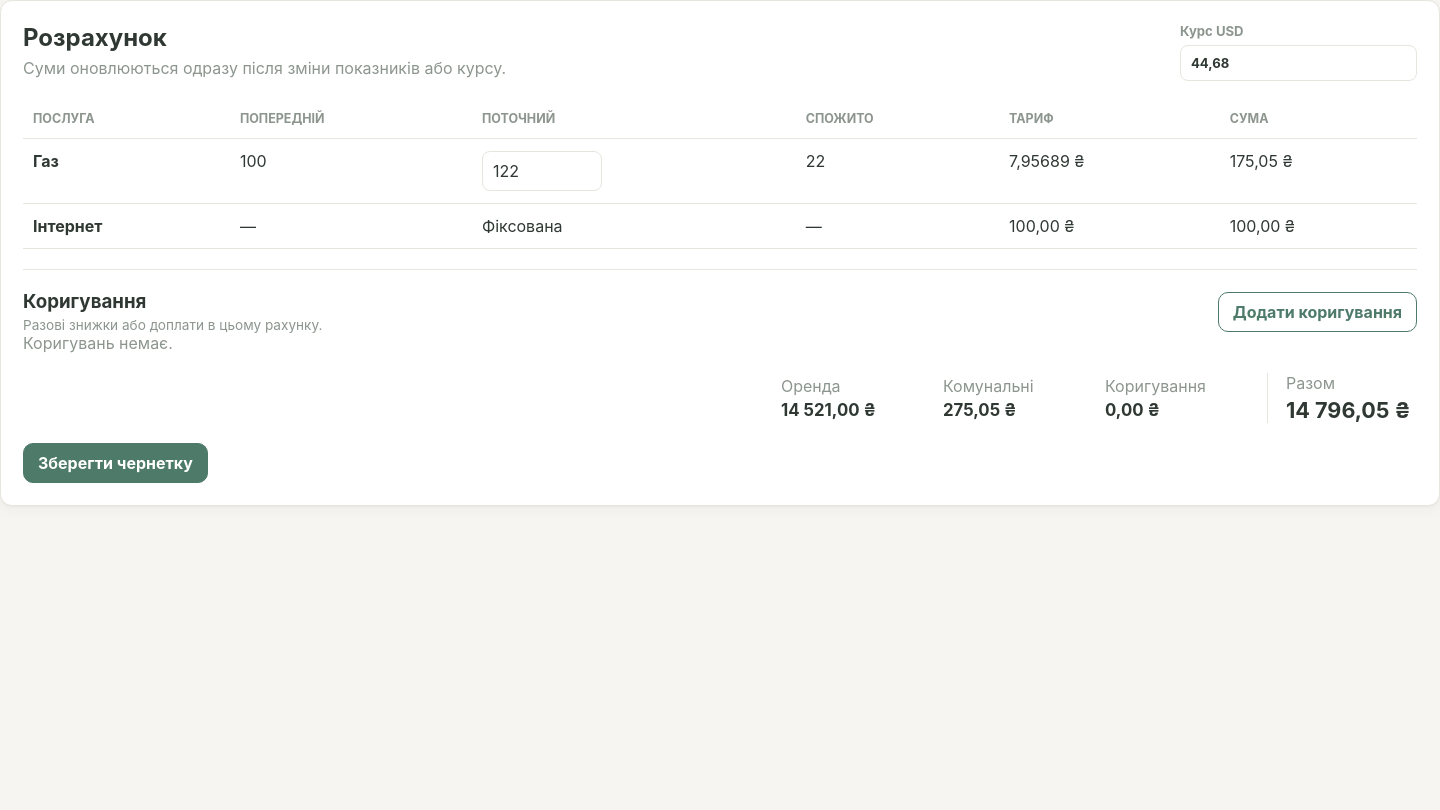
it: InvoiceCalculator › disables and clears expense recording for a positive adjustment
Step 1. Click the button "Додати коригування" → (1317, 312), box top-left (1218, 292), bottom-right (1417, 332)
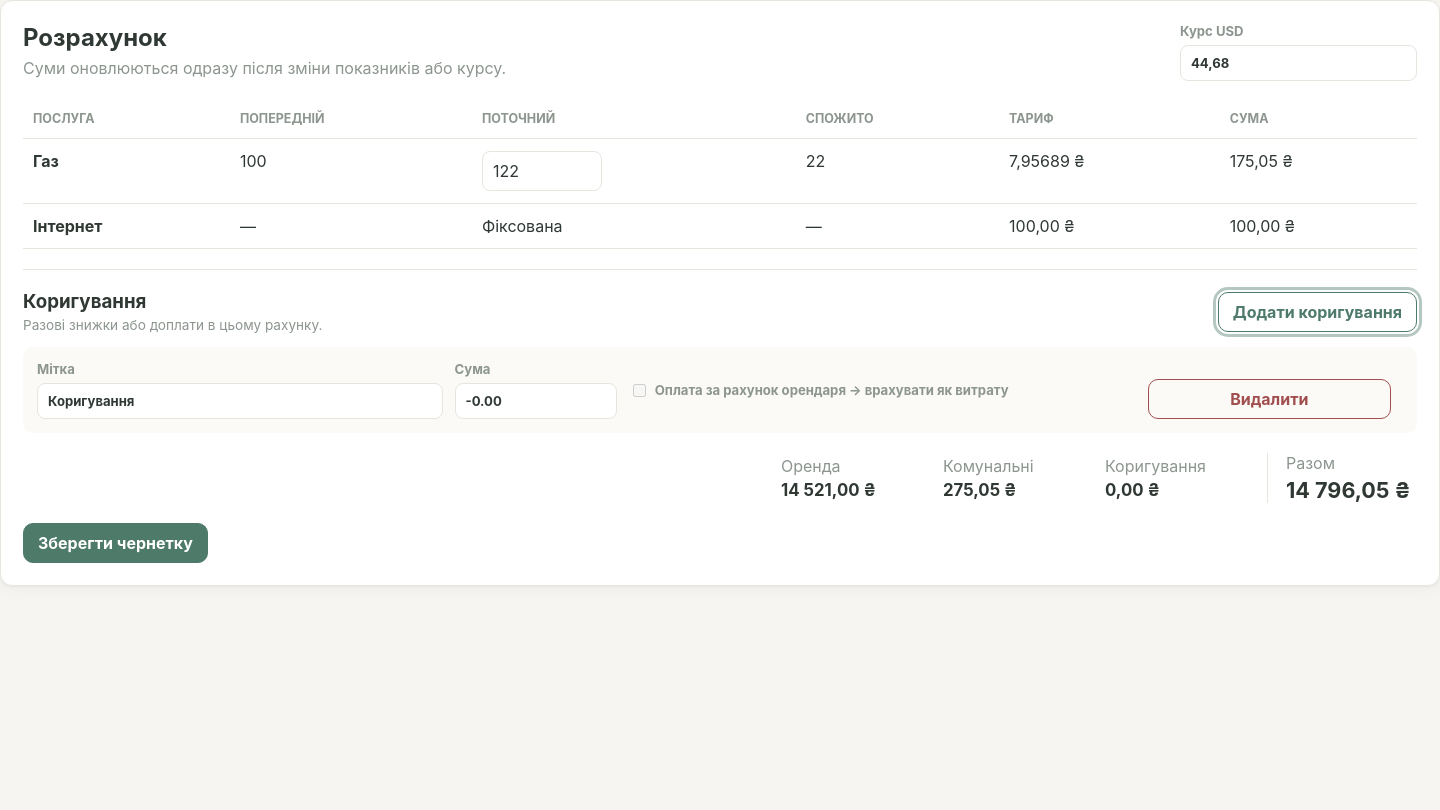
Step 2. Replace the text in the field named "Сума коригування 1" with "-100" → (536, 401), box top-left (454, 383), bottom-right (617, 419)
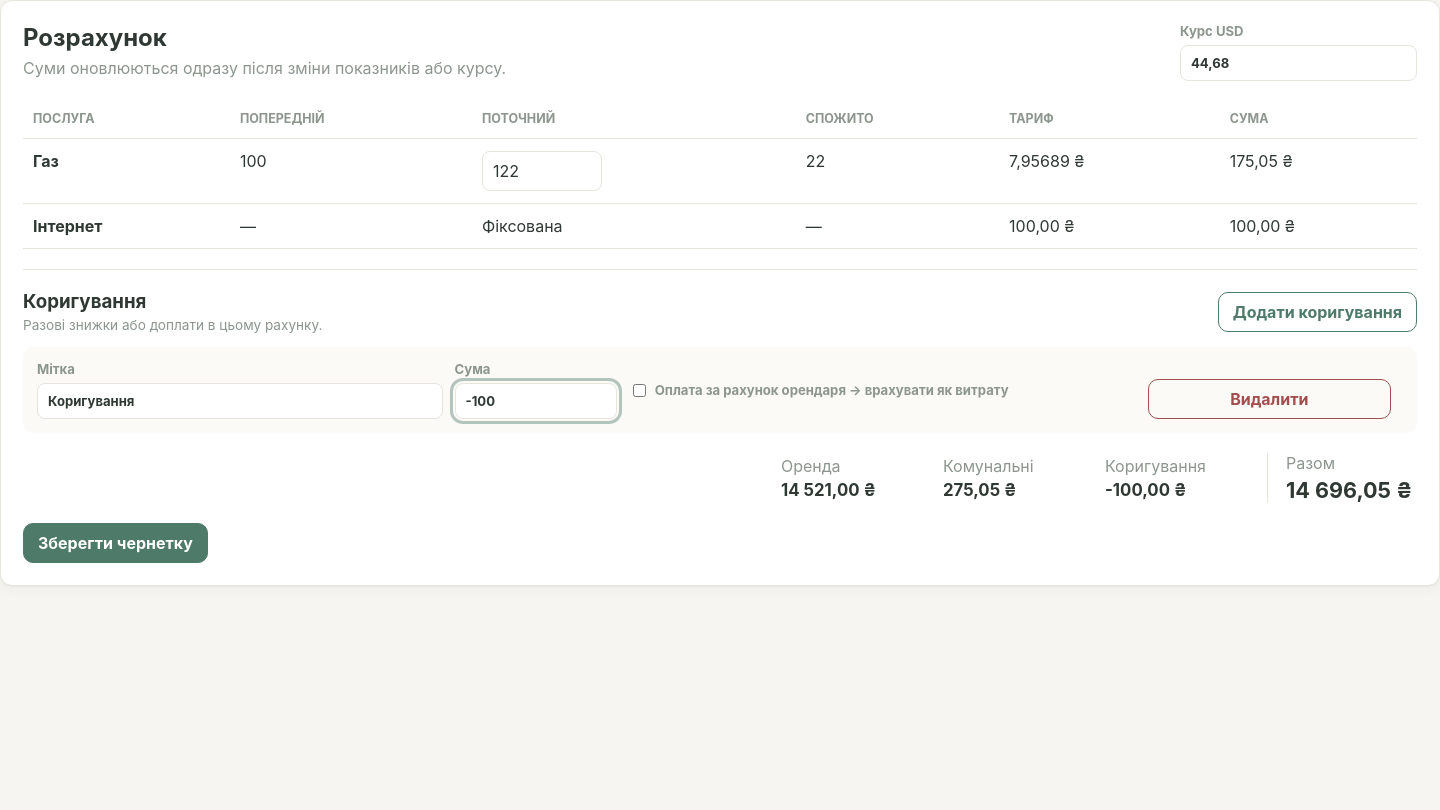
Step 3. Click the checkbox named "Врахувати коригування 1 як витрату" → (639, 390), box top-left (633, 384), bottom-right (646, 396)
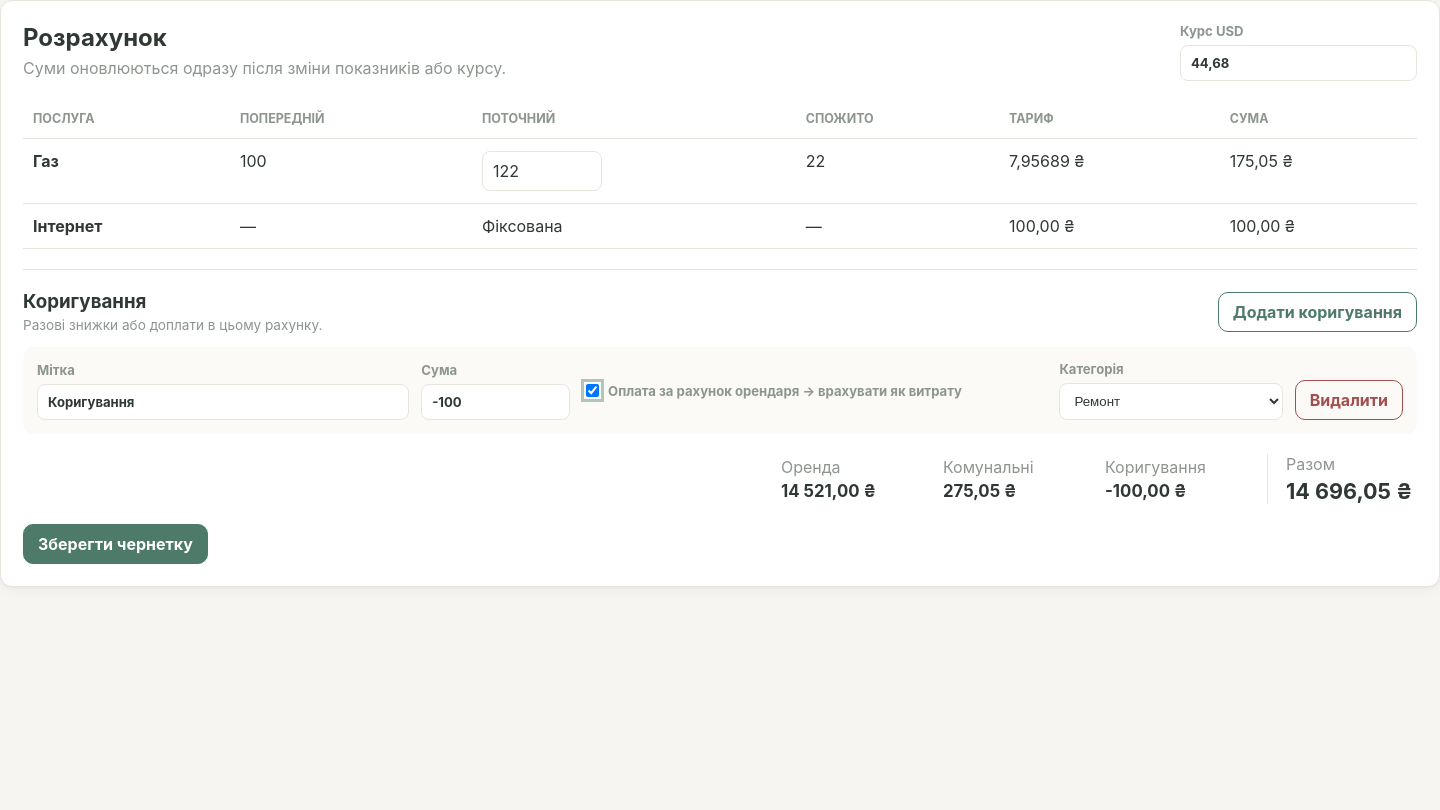
Expected: the dropdown named "Категорія витрати коригування 1" is shown, top-left (1059, 383), bottom-right (1283, 420)
Step 4. Clear the field named "Сума коригування 1" → (496, 402), box top-left (421, 384), bottom-right (570, 420)
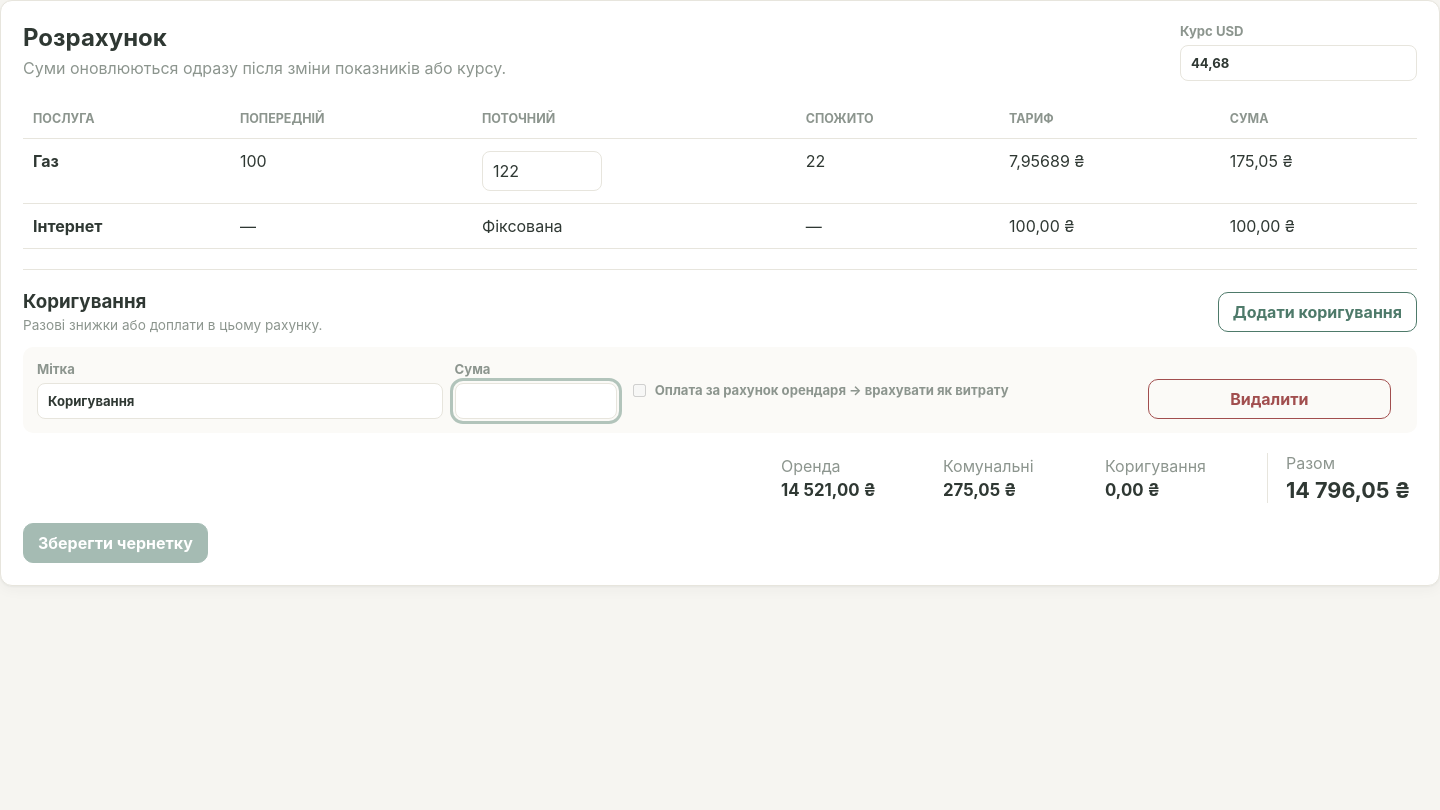
Step 5. Type "100" into the field named "Сума коригування 1" → (536, 401), box top-left (454, 383), bottom-right (617, 419)
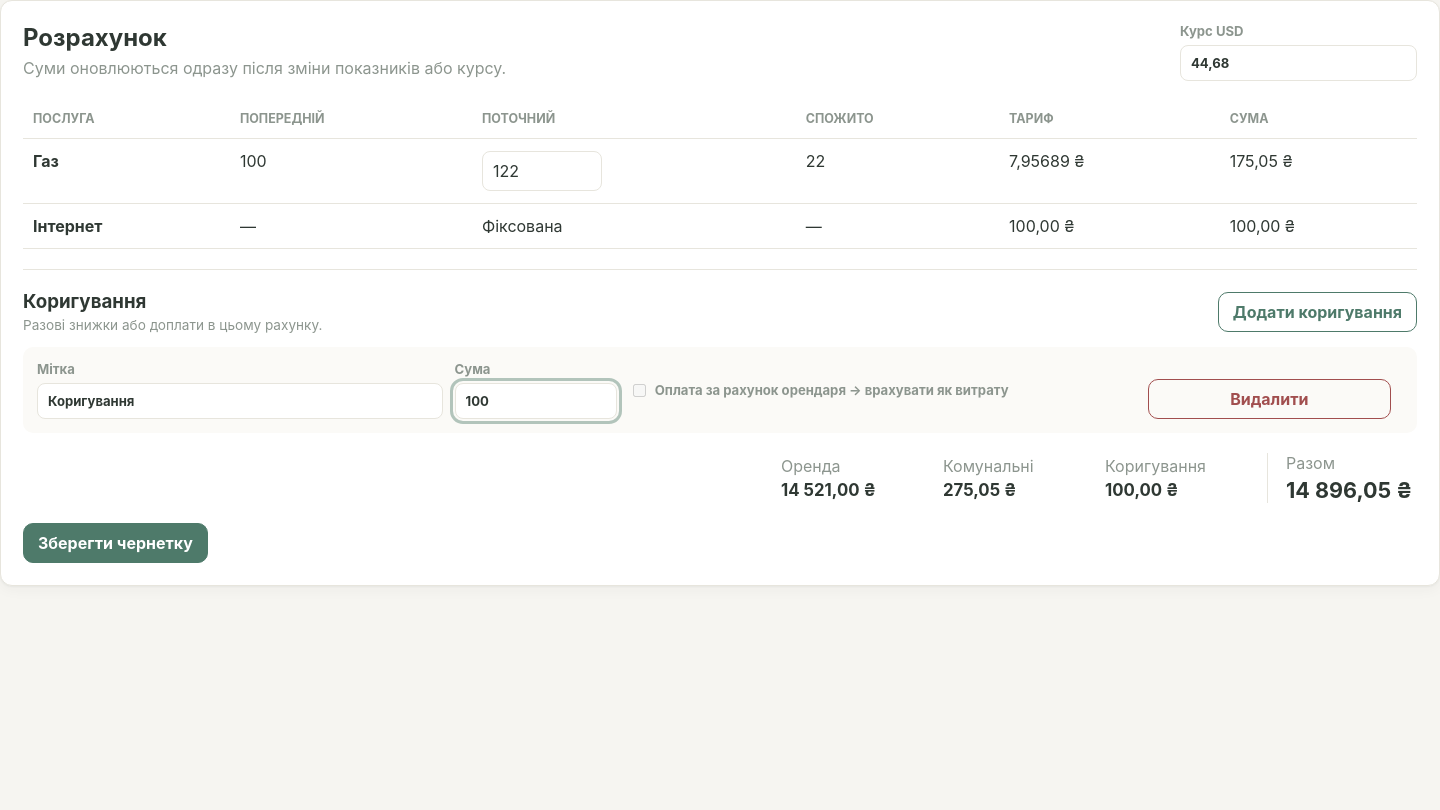
Expected: the checkbox named "Врахувати коригування 1 як витрату" is not checked, top-left (633, 384), bottom-right (646, 396)
Expected: the checkbox named "Врахувати коригування 1 як витрату" is disabled, top-left (633, 384), bottom-right (646, 396)
Expected: the text "14 896,05 ₴" is shown, top-left (1286, 477), bottom-right (1417, 503)
